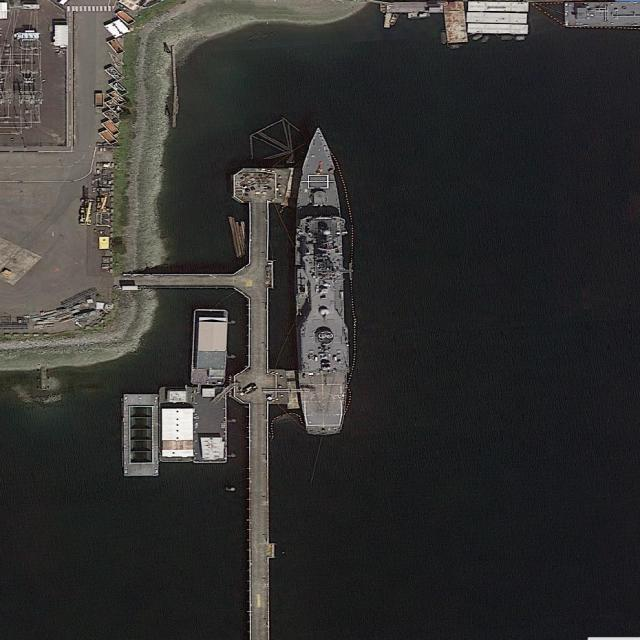Dock: (249, 204, 268, 640)
Frigate: (295, 126, 345, 436)
